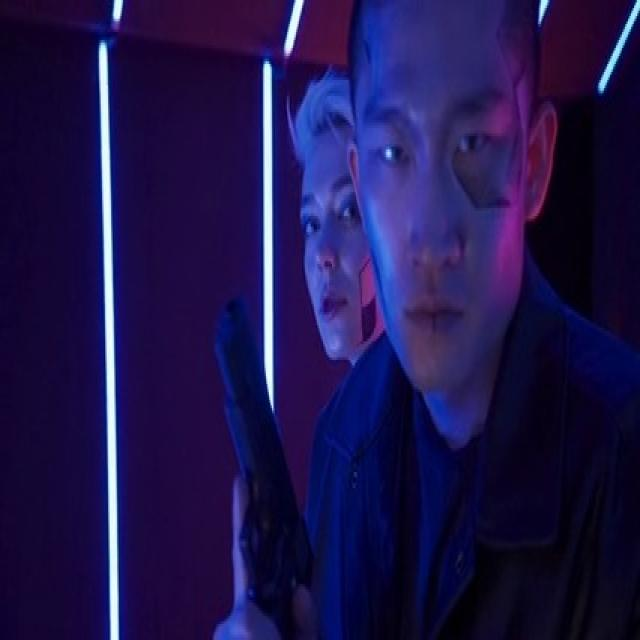Gun_Holder: (188, 288, 335, 640)
Person: (320, 0, 640, 640), (278, 66, 401, 616)
